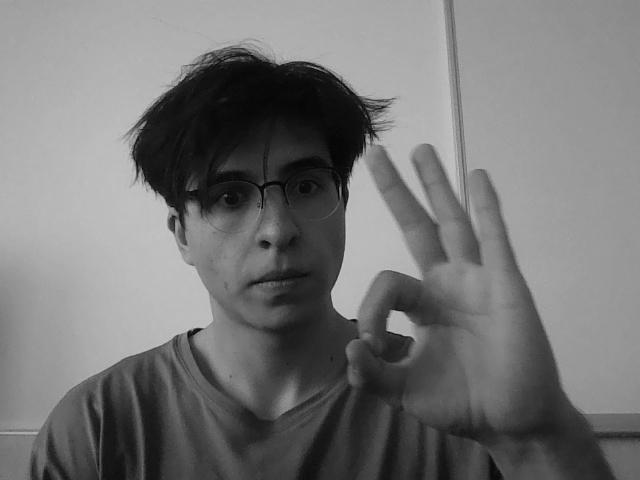OK: (337, 142, 558, 441)
